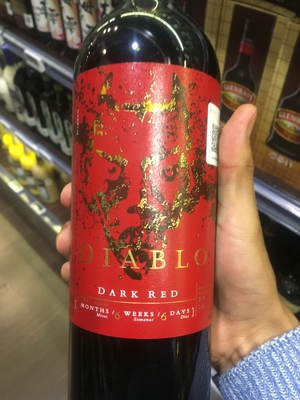diablo dark red: (65, 8, 228, 386)
